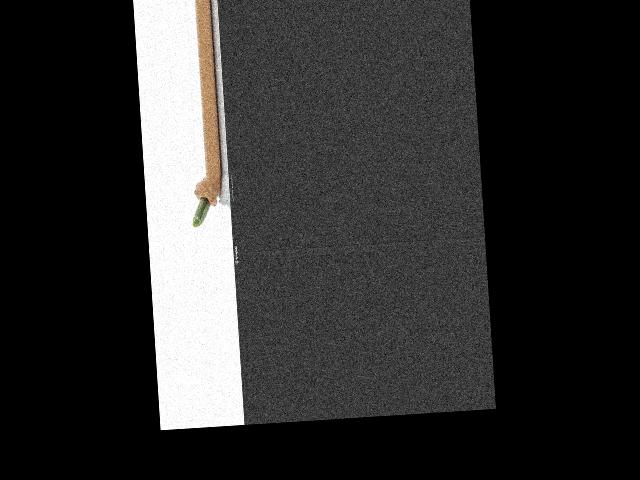cucumber: (191, 196, 211, 227)
